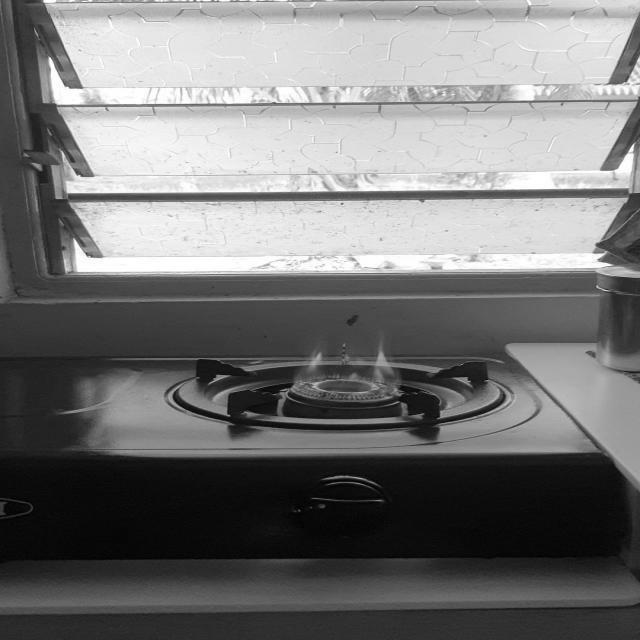smoke: (290, 328, 403, 406)
